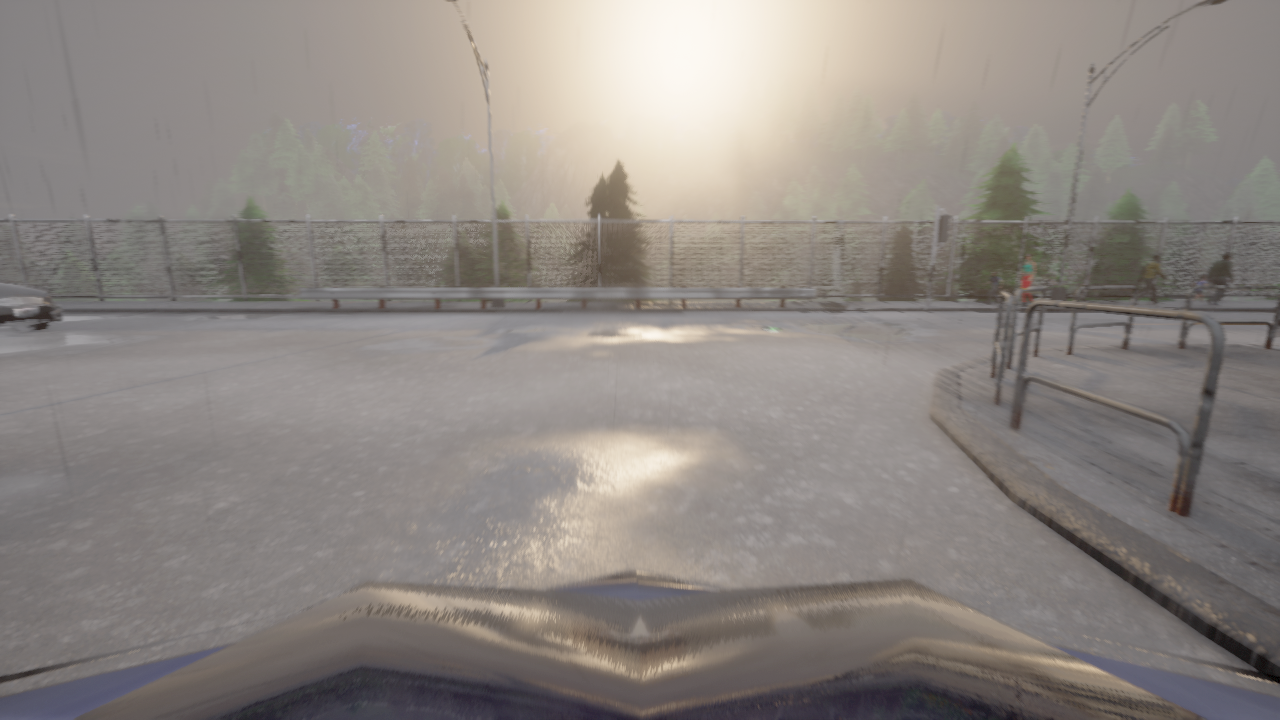cyclist: (0, 569, 1279, 719)
pedestrian: (1129, 254, 1167, 304), (1207, 253, 1232, 305), (1018, 252, 1035, 304), (984, 271, 1002, 303), (1191, 275, 1207, 305)
